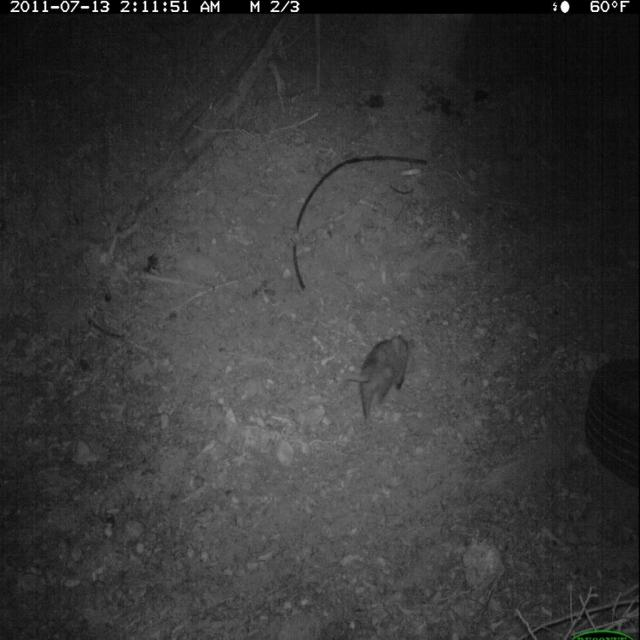opossum: (342, 328, 413, 426)
